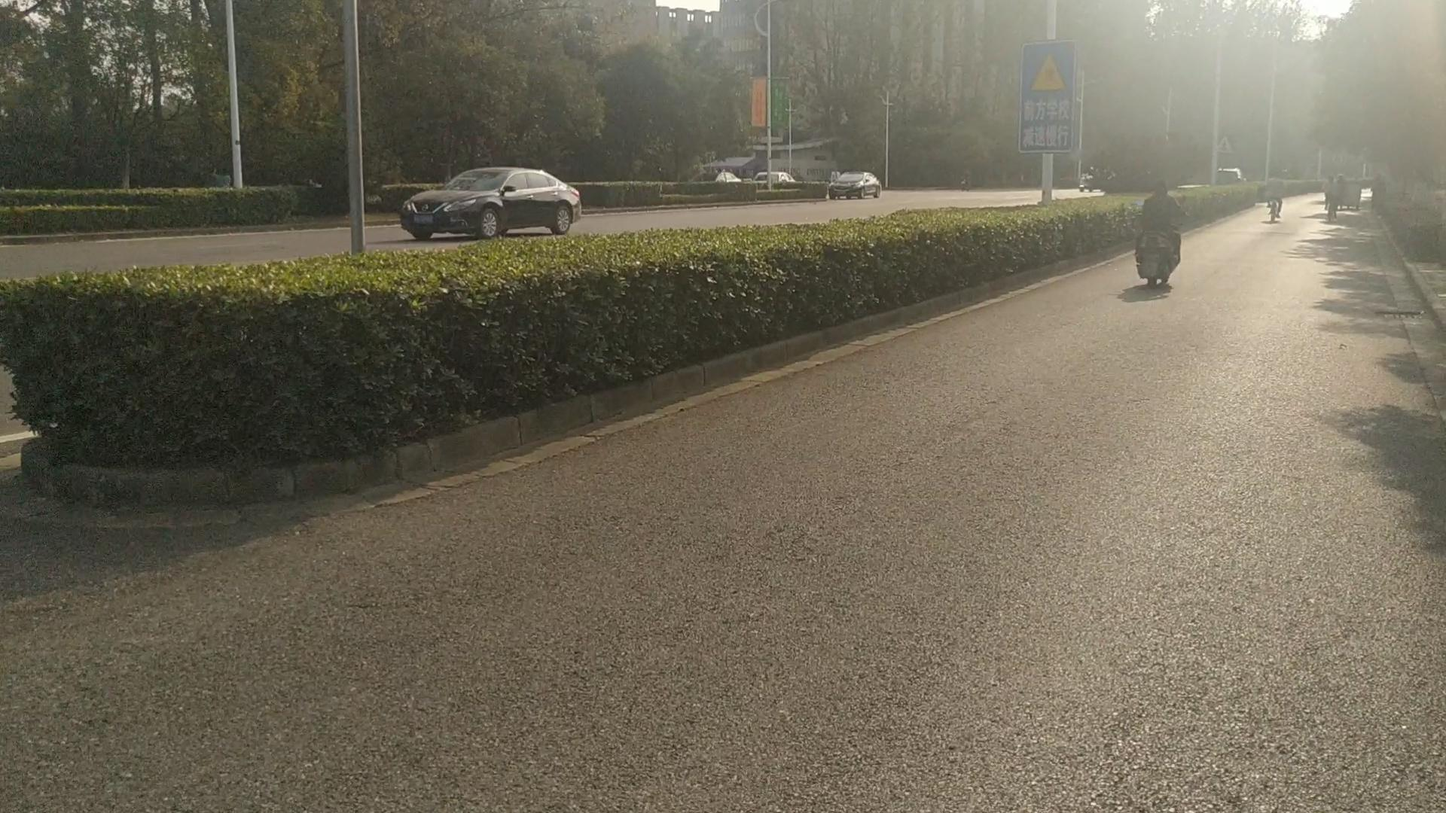car: (400, 166, 581, 239), (1325, 176, 1374, 216), (827, 170, 883, 199), (751, 168, 800, 186), (1214, 167, 1244, 184)
